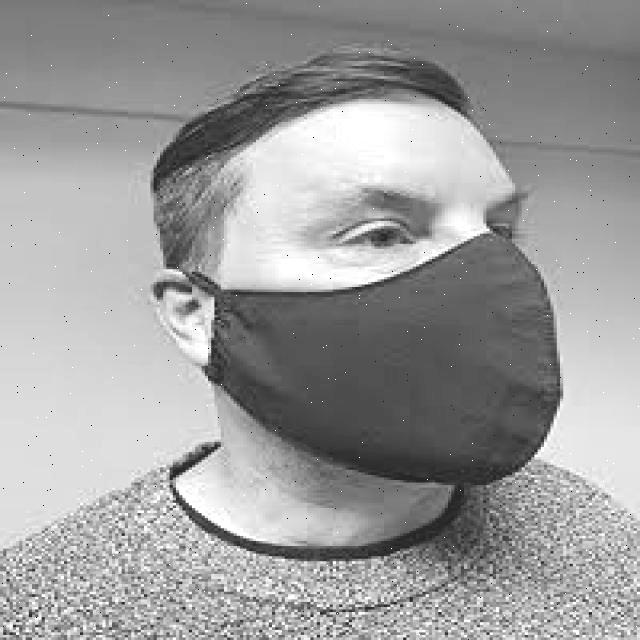fake: (148, 237, 584, 523)
real: (209, 100, 529, 513)
